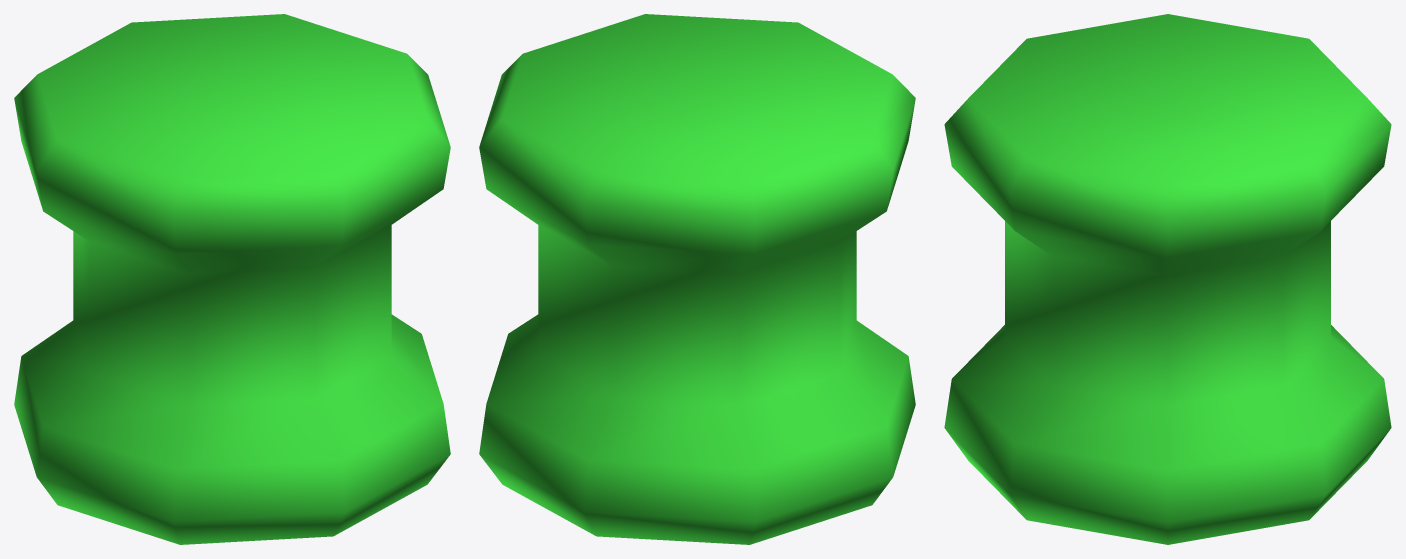
The model's file is SM_Bout_Chimere.fbx.
3 views of the same model, side by side, from view 1: azimuth 30°, elevation 25°; view 2: azimuth 150°, elevation 25°; view 3: azimuth 270°, elevation 25° (orthographic).
Visible parts, largest first — view 1: SM_Bout_Chimere; view 2: SM_Bout_Chimere; view 3: SM_Bout_Chimere.
Part boxes in pixels (x1,y1,x2,y2): SM_Bout_Chimere: (14, 14, 450, 544); SM_Bout_Chimere: (479, 14, 915, 544); SM_Bout_Chimere: (944, 14, 1391, 544).
Size of the model in its own units: 0.1862 by 0.1664 by 0.1862.
